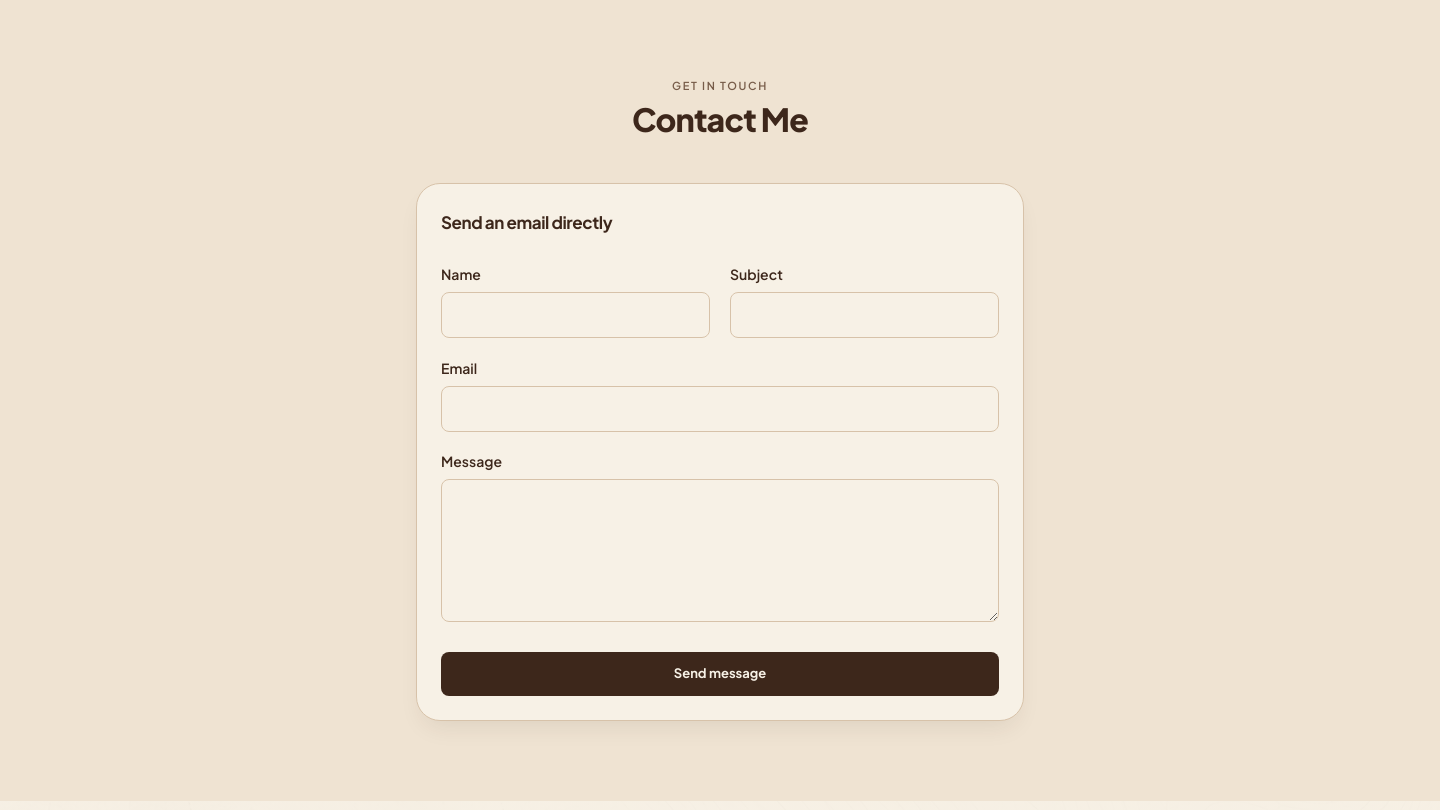
Contact › retains values after failure
The image size is (1440, 810).
Type "Alex" into the field labelled "Name".
click(576, 315); type("Alex")  # box [441,292,710,338]
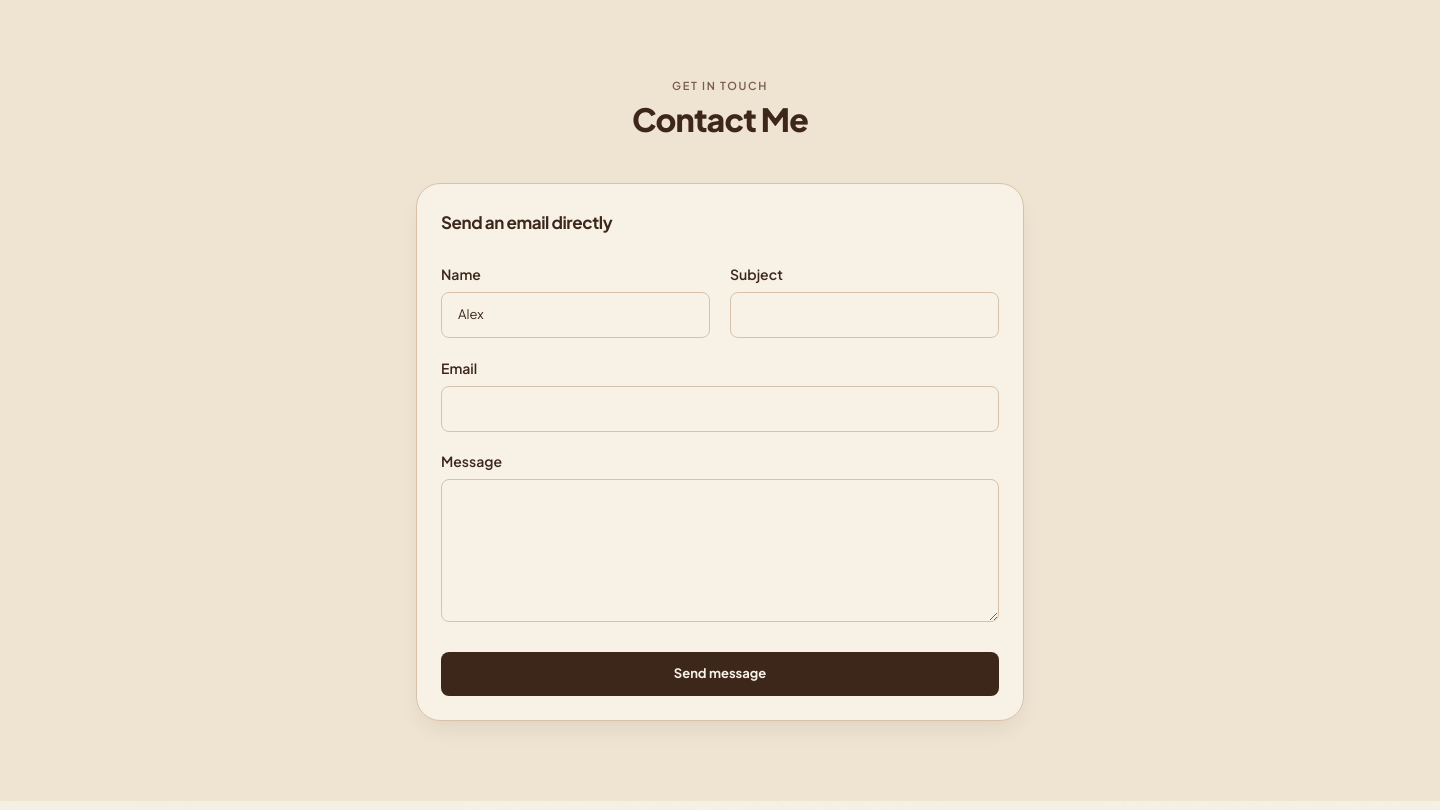
Type "Hello" into the field labelled "Subject".
click(864, 315); type("Hello")  # box [730,292,999,338]
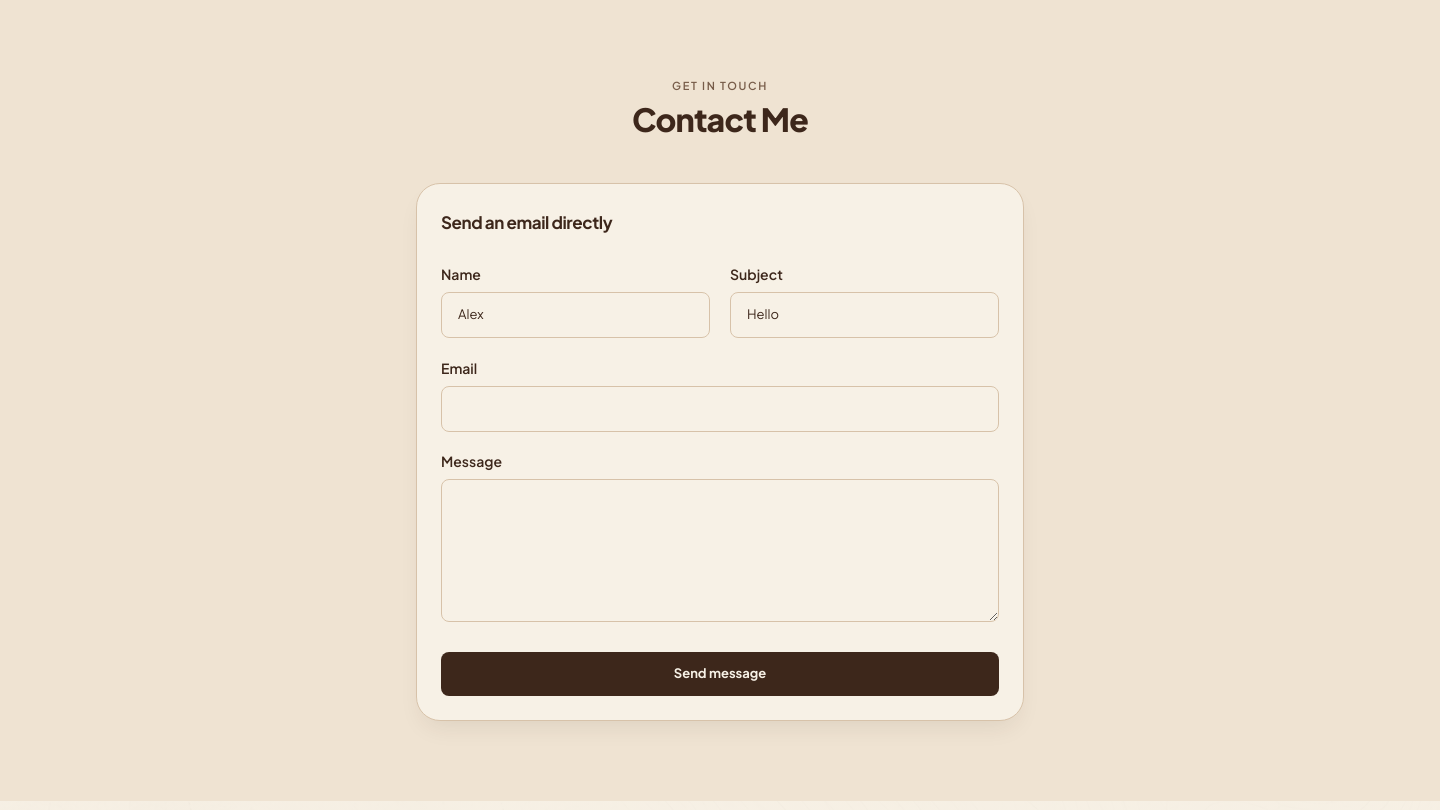
Type "alex@example.com" into the field labelled "Email".
click(720, 408); type("alex@example.com")  # box [441,386,999,431]
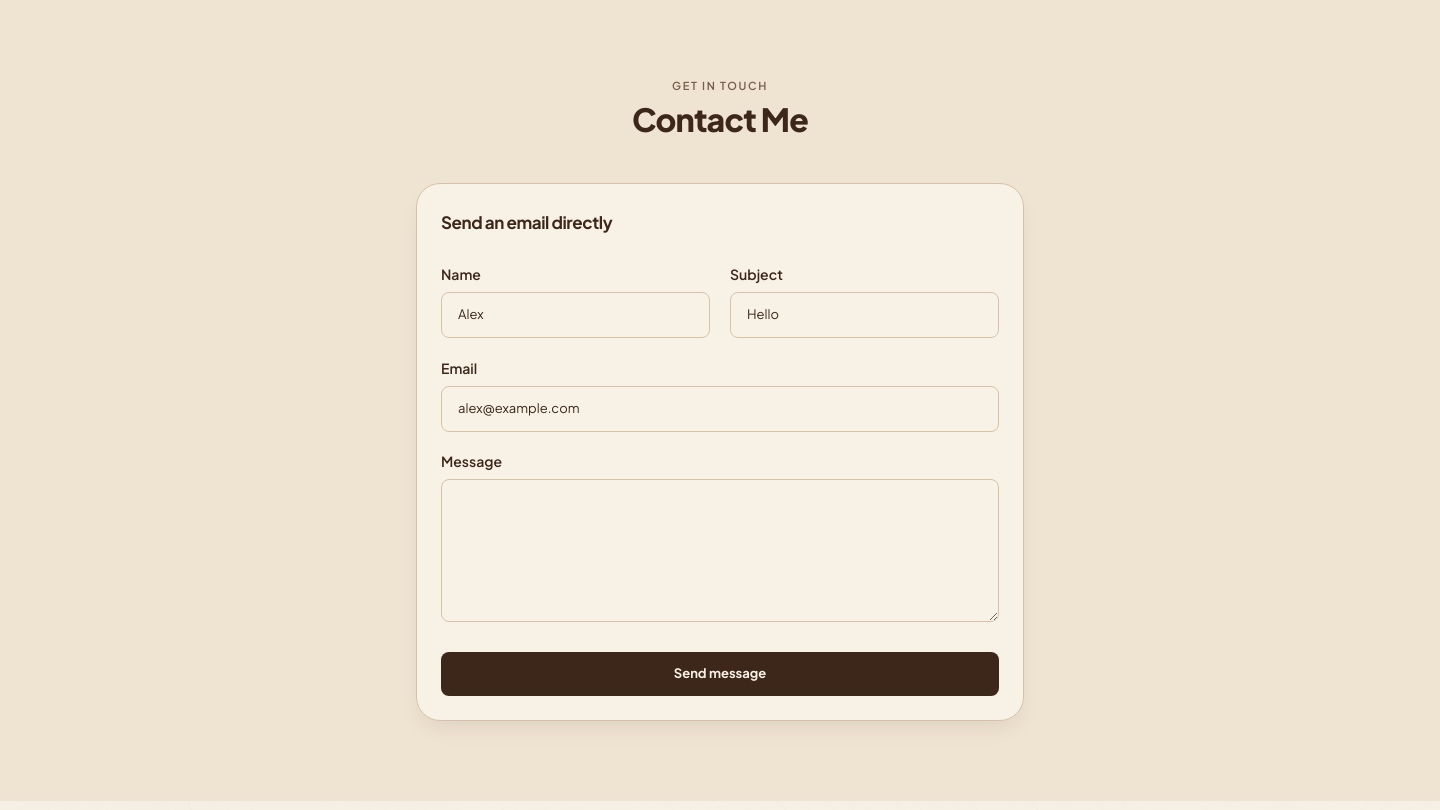
Type "A message" into the text box labelled "Message".
click(720, 550); type("A message")  # box [441,479,999,622]
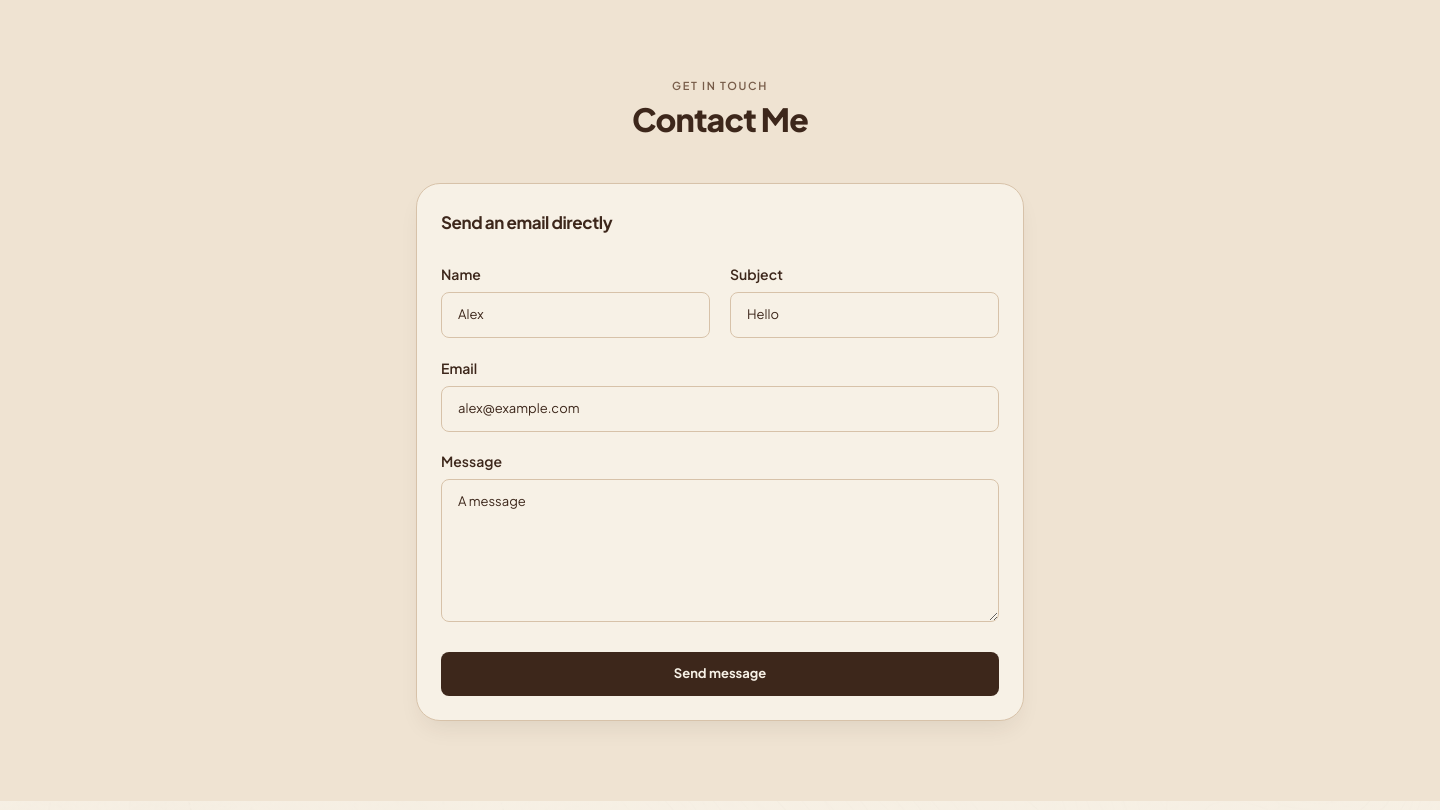
Click the button "Send message".
click(720, 674)  # box [441,652,999,696]
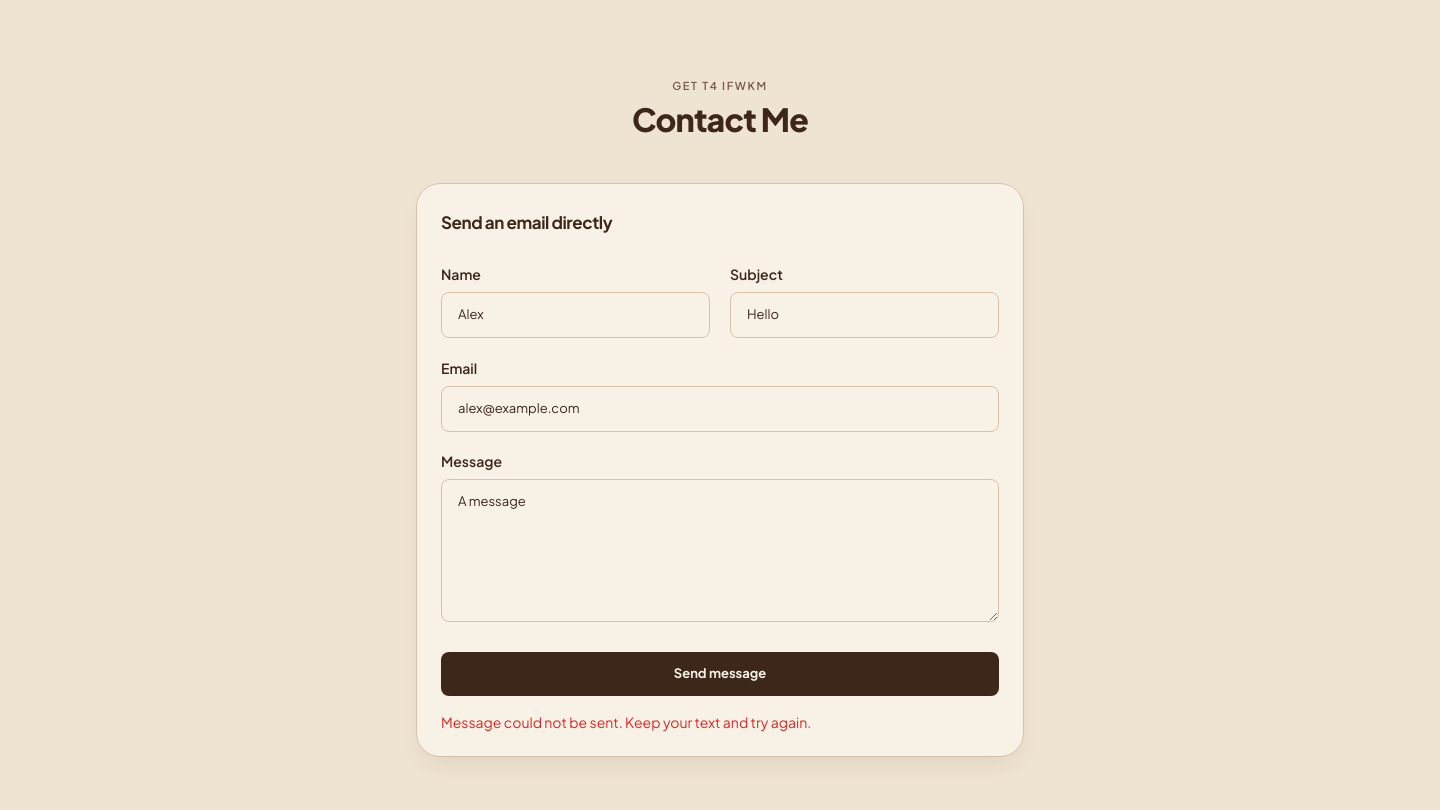
Now the message "Message could not be sent. Keep your text and try again." is shown, box [441,712,811,730]
